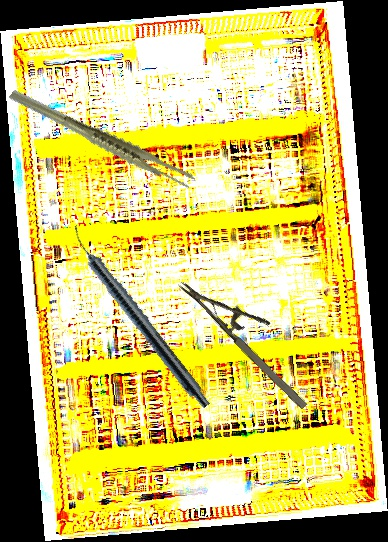Handpiece: (62, 222, 217, 412)
Needle Holder: (177, 256, 329, 414)
Tissue Forceps: (7, 58, 197, 218)
